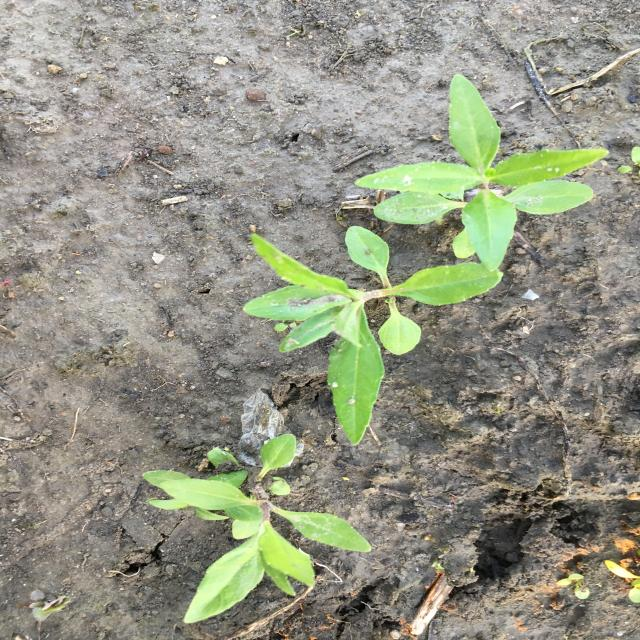Eclipta: (240, 225, 504, 446), (353, 72, 611, 275), (140, 433, 374, 625)
